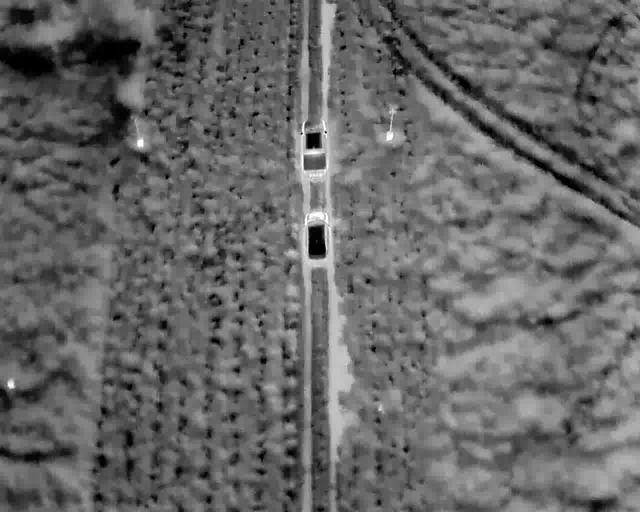car: (298, 116, 330, 173), (302, 208, 331, 261)
